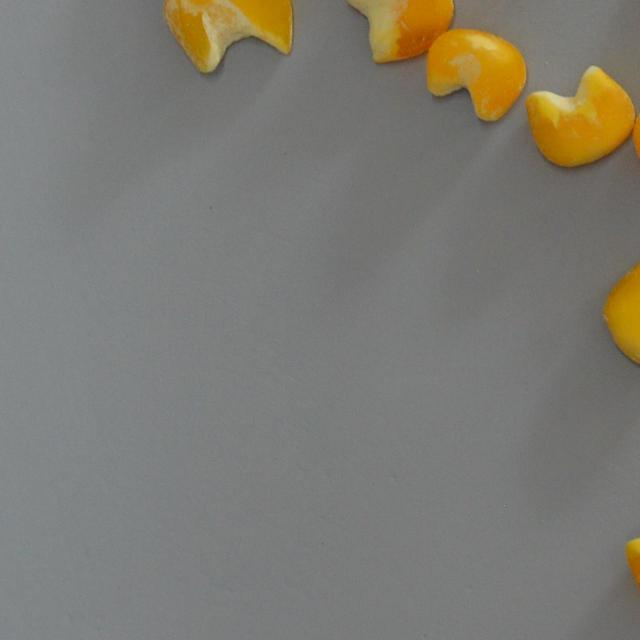no_canjicado: (524, 64, 634, 168), (426, 28, 526, 122), (623, 500, 640, 611)
pelicula: (164, 0, 294, 73), (337, 0, 454, 64), (600, 248, 640, 370)
